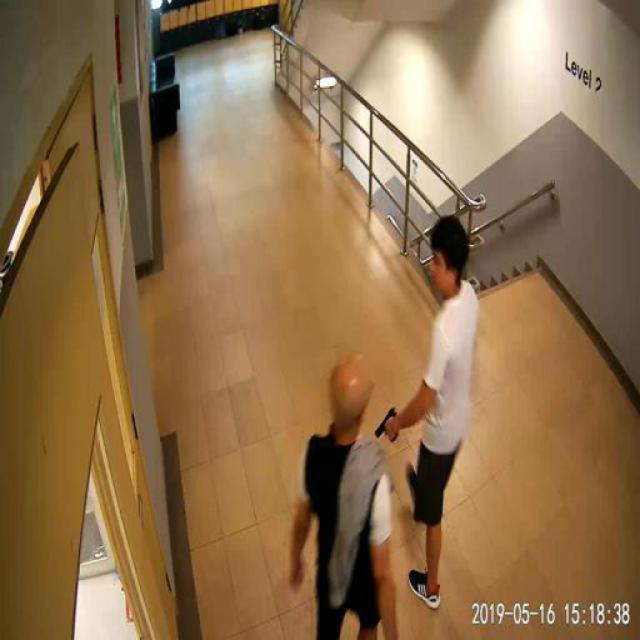pistol: (372, 405, 396, 440)
